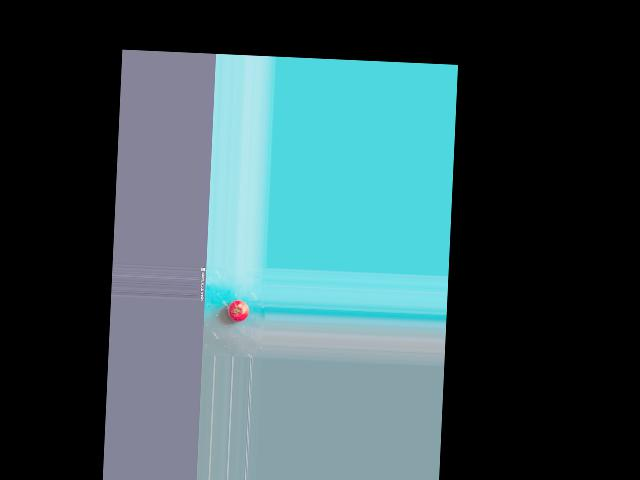tomato: (226, 300, 249, 322)
